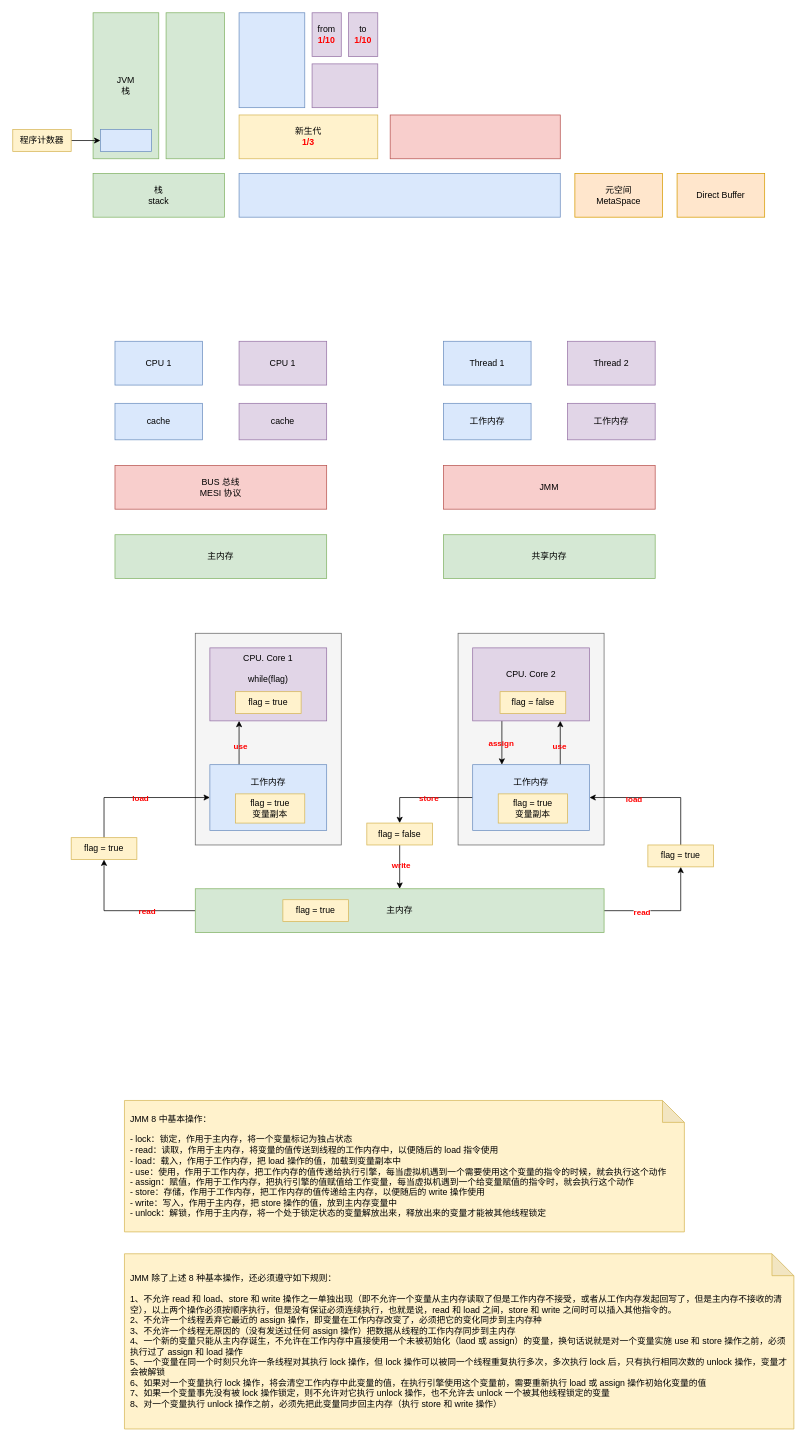
Image size: 807x1442. Some labels were removed from this diagram. Here are the shapes that lost their labels. From the top down, the centre of each, then its label:
At point 271,60: "伊甸区 Eden 8/10".
At point 194,85: "Native 栈".
At point 344,85: "幸存者 Survivor 2/10".
At point 125,140: "栈帧".
At point 474,136: "老年代 2/3".
At point 399,195: "堆 heap".
